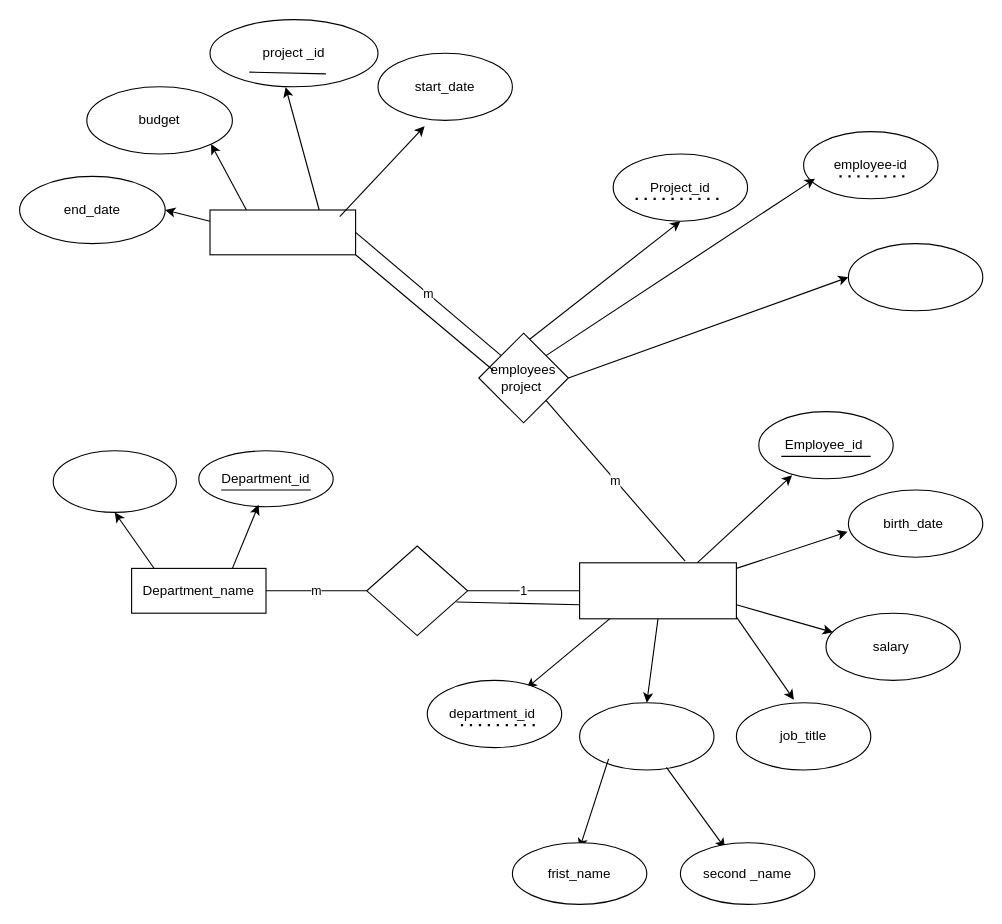
Some shapes in this 1002 by 924 pixel diagram are drawn without their labels. The centre of each missing label's shape, as x and y in pixels:
"assigned_date" goes at (915,276).
"belong to" goes at (417,590).
"Department _name" goes at (114,481).
"Employees" goes at (657,590).
"name" goes at (646,736).
"project" goes at (282,232).
